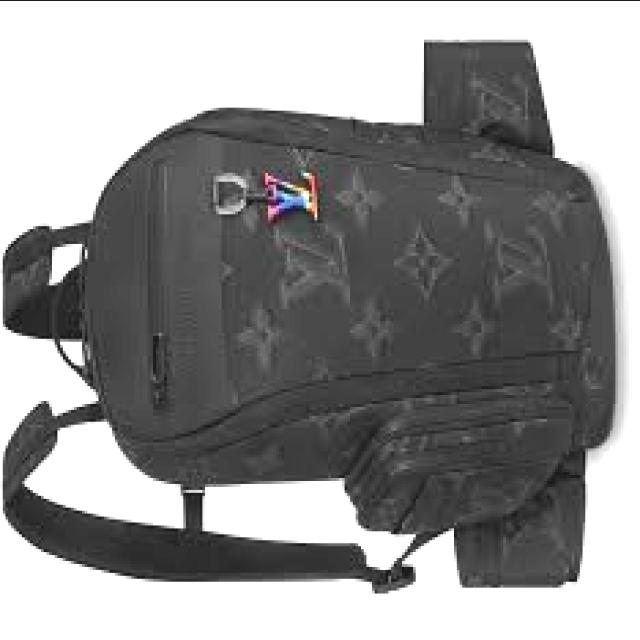backpack: (1, 43, 616, 597)
